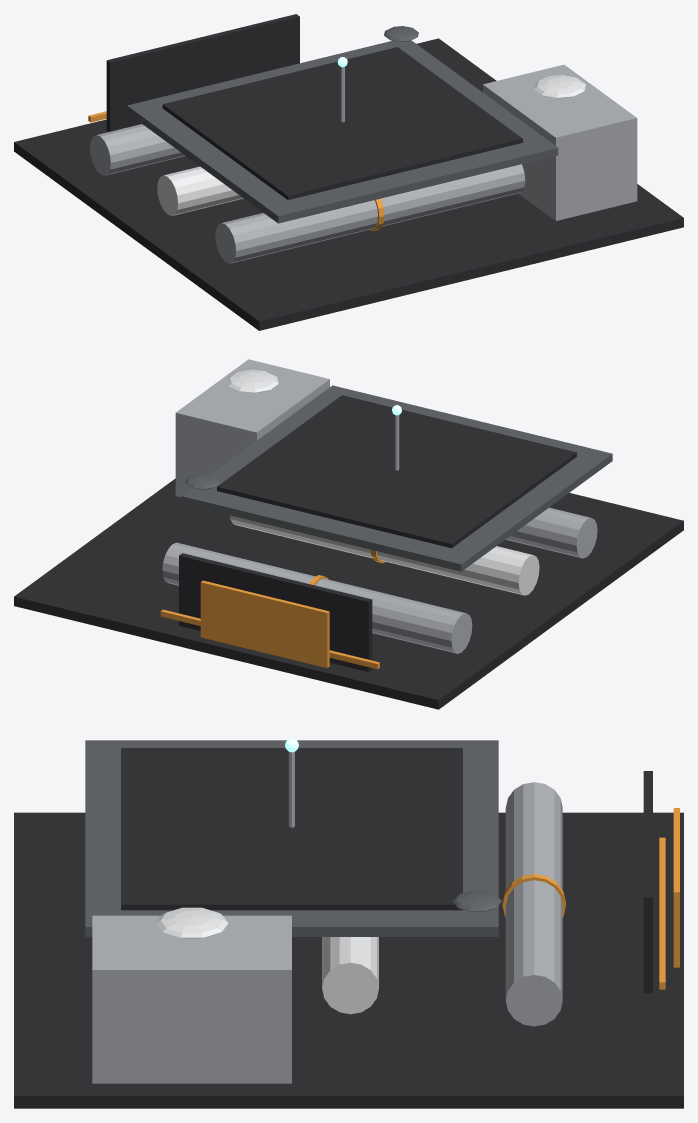
Rendered from SM_Hero_DeepArchive.glb.
3 views of the same model, one above another, from view 1: azimuth 30°, elevation 25°; view 2: azimuth 150°, elevation 25°; view 3: azimuth 270°, elevation 25° (orthographic). The views are drawn at different scales.
Visible parts, largest first — view 1: SM_Hero_DeepArchive; view 2: SM_Hero_DeepArchive; view 3: SM_Hero_DeepArchive.
Boxes of the visible parts, x1,y1,x2,y2 form: SM_Hero_DeepArchive: (14, 14, 683, 330); SM_Hero_DeepArchive: (14, 359, 683, 709); SM_Hero_DeepArchive: (14, 738, 683, 1108).
Bounding box in the file's own units: 8.46 × 2.93 × 8.46.
